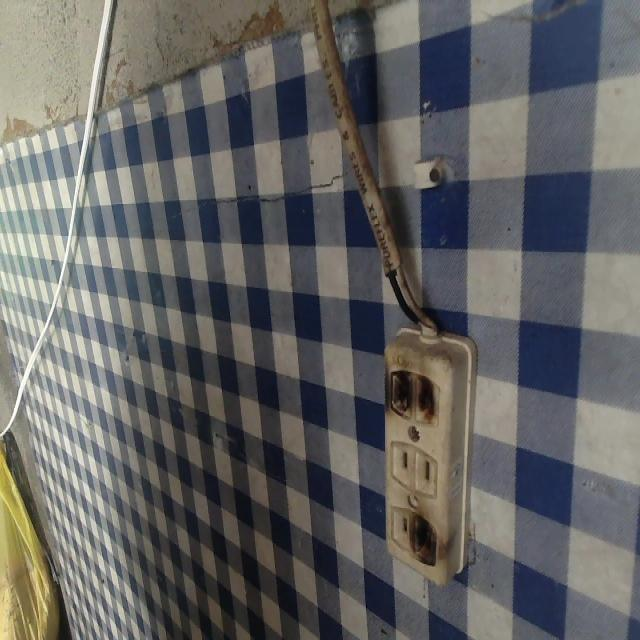-: (380, 364, 439, 431), (406, 511, 438, 569)
